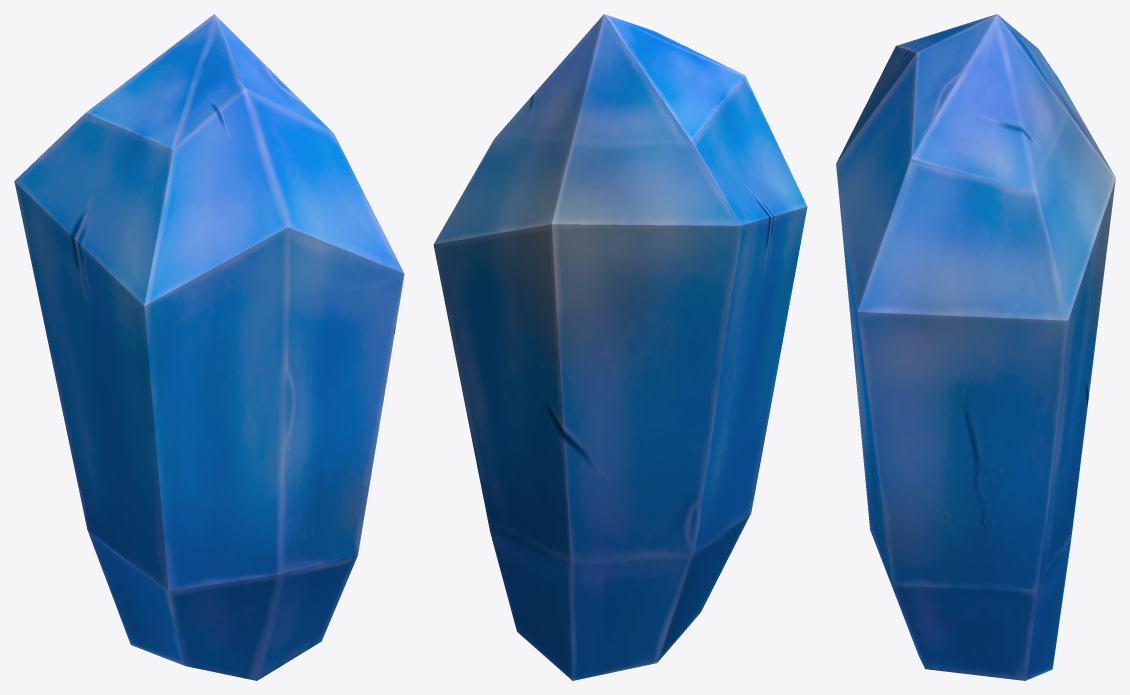
Rendered from shard_blue.glb.
3 renders of one model, left to right at view 1: azimuth 30°, elevation 25°; view 2: azimuth 150°, elevation 25°; view 3: azimuth 270°, elevation 25°, orthographic.
Parts seen in each view (by area): view 1: Cube; view 2: Cube; view 3: Cube.
Boxes of the visible parts, x1,y1,x2,y2 form: Cube: [14, 14, 404, 680]; Cube: [433, 14, 807, 680]; Cube: [836, 14, 1115, 680].
Size of the model in its own units: 76.26 by 156 by 60.49.
Materials: 1 (1 with a texture image).
